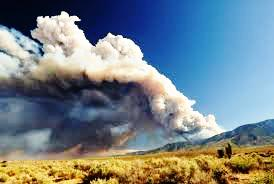smoke: (150, 104, 233, 146)
